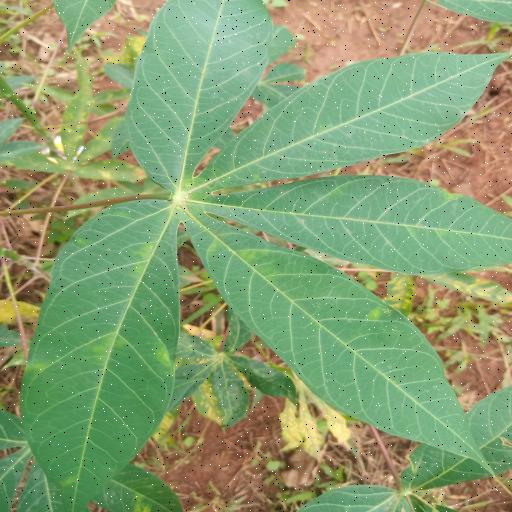Cassava_Healthy: (21, 2, 512, 508)
